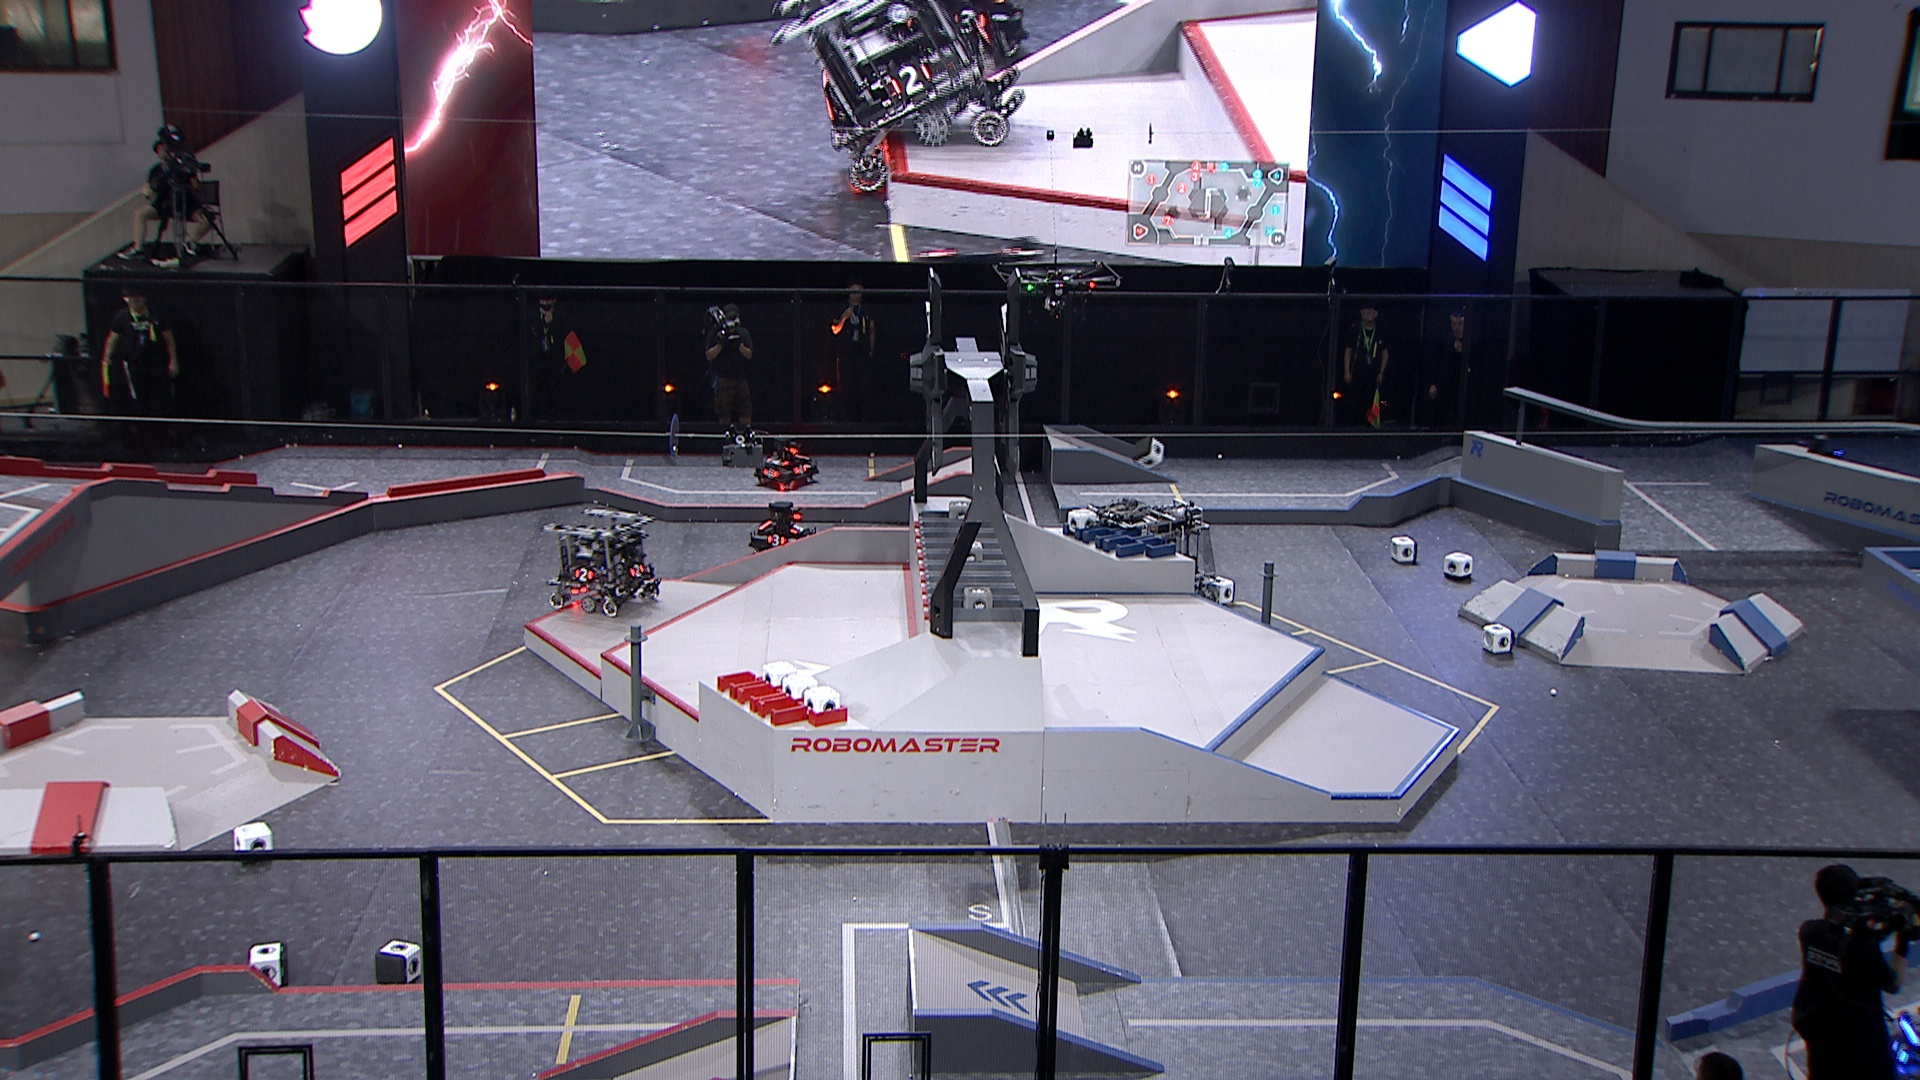armor: (1888, 1038, 1915, 1065), (765, 531, 787, 549), (571, 566, 593, 582), (626, 560, 646, 578), (760, 467, 781, 480), (765, 456, 790, 467), (793, 462, 808, 476), (789, 522, 804, 535)
car: (1091, 496, 1221, 622), (541, 509, 659, 617), (749, 500, 814, 555), (749, 442, 820, 491), (1878, 1007, 1920, 1080)
ignore: (769, 0, 1027, 191)
